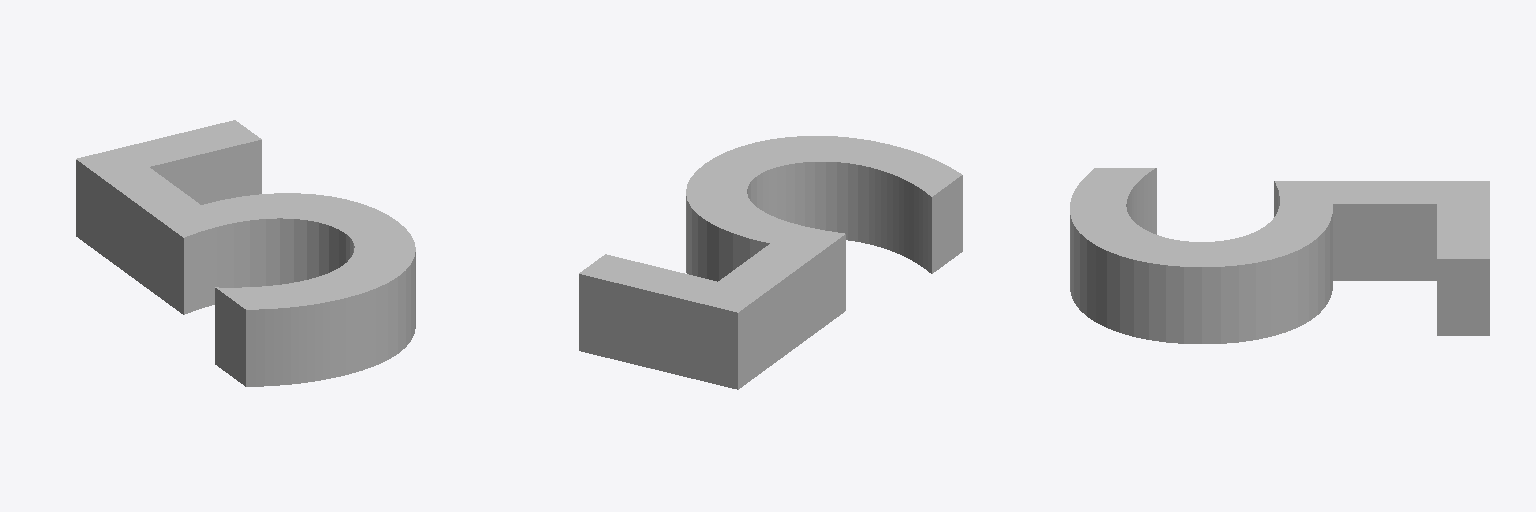
Rendered from Number_5.obj.
The picture shows the model from 3 angles: view 1: azimuth 30°, elevation 25°; view 2: azimuth 150°, elevation 25°; view 3: azimuth 270°, elevation 25°; orthographic projection.
Parts seen in each view (by area): view 1: Text; view 2: Text; view 3: Text.
Boxes of the visible parts, box(x1,y1,x2,y2) form: Text: box(76, 120, 415, 386); Text: box(579, 136, 962, 389); Text: box(1070, 168, 1489, 343).
Size of the model in its own units: 0.388 by 0.14 by 0.691.